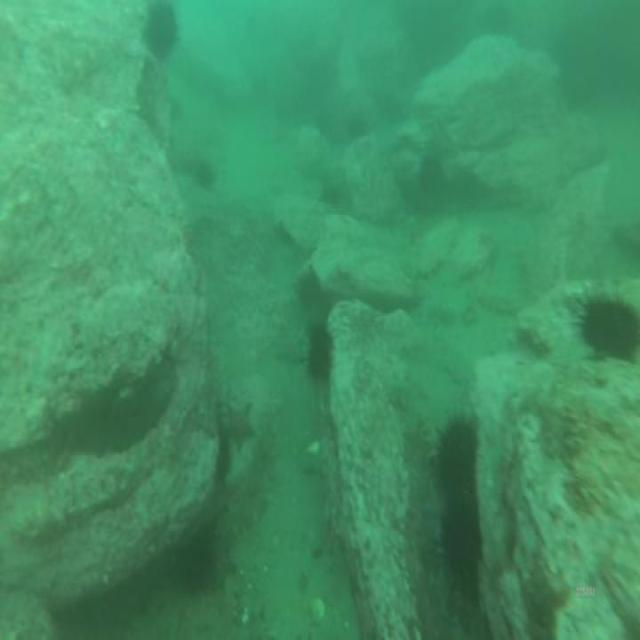echinus: (584, 297, 638, 356), (438, 419, 478, 485), (439, 499, 483, 556), (144, 3, 179, 60), (185, 530, 219, 586), (308, 326, 332, 376), (296, 267, 322, 313), (422, 153, 446, 196)
starfish: (228, 403, 256, 452)
